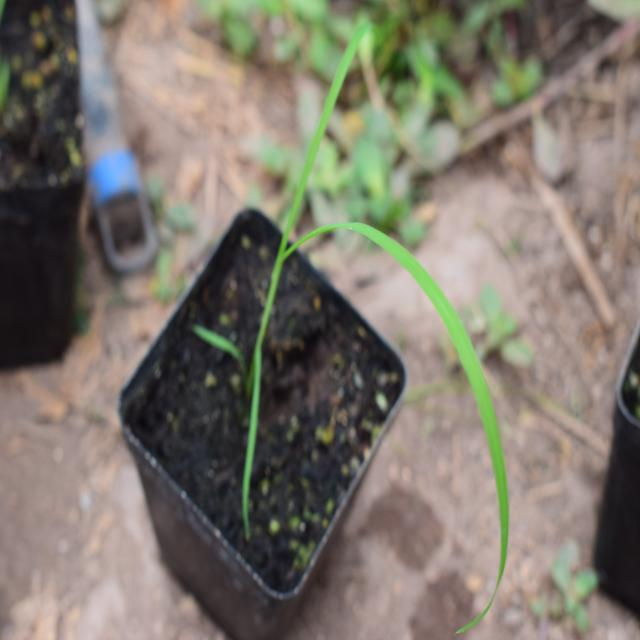barnyard_grass: (187, 83, 543, 550)
